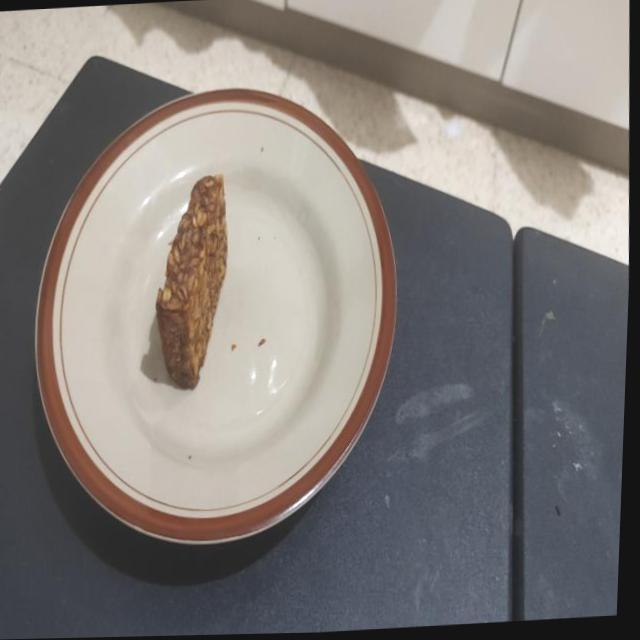tempe_goreng: (156, 174, 227, 388)
